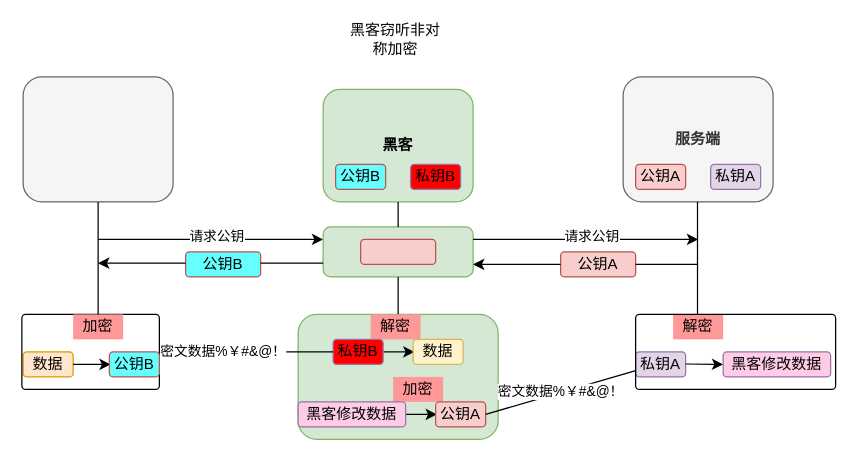
The diagram is 858 pixels wide and 461 high, and some of its shapes have lost their labels. Each missing label, with the centre of its shape:
"公钥A拦截" goes at (x=397, y=251).
"客户端" goes at (x=97, y=139).
